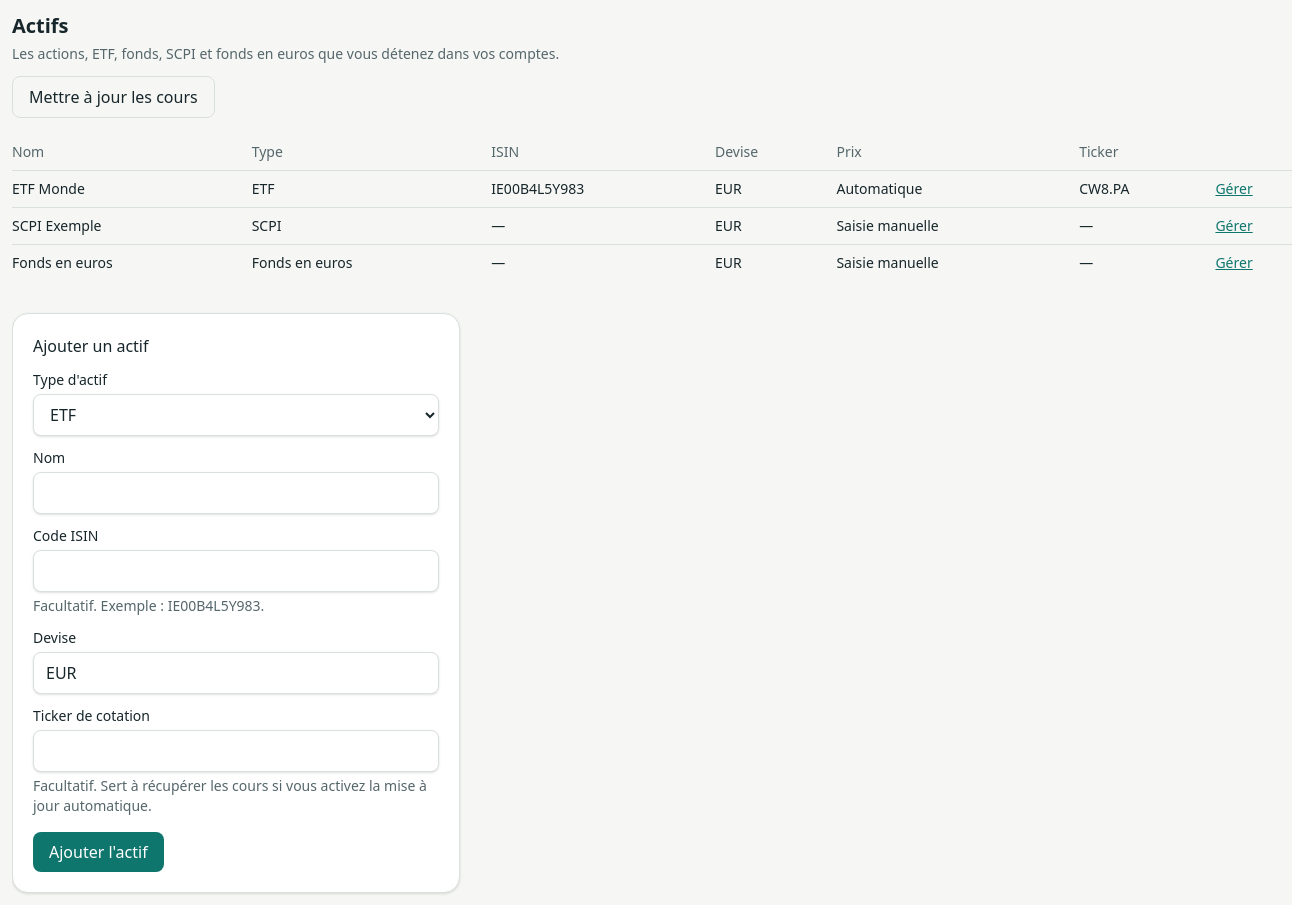
it: mise à jour des cours › renvoie vers les réglages quand la récupération est désactivée
Click the button "Mettre à jour les cours". click: (113,97)
box: [12,76,215,118]
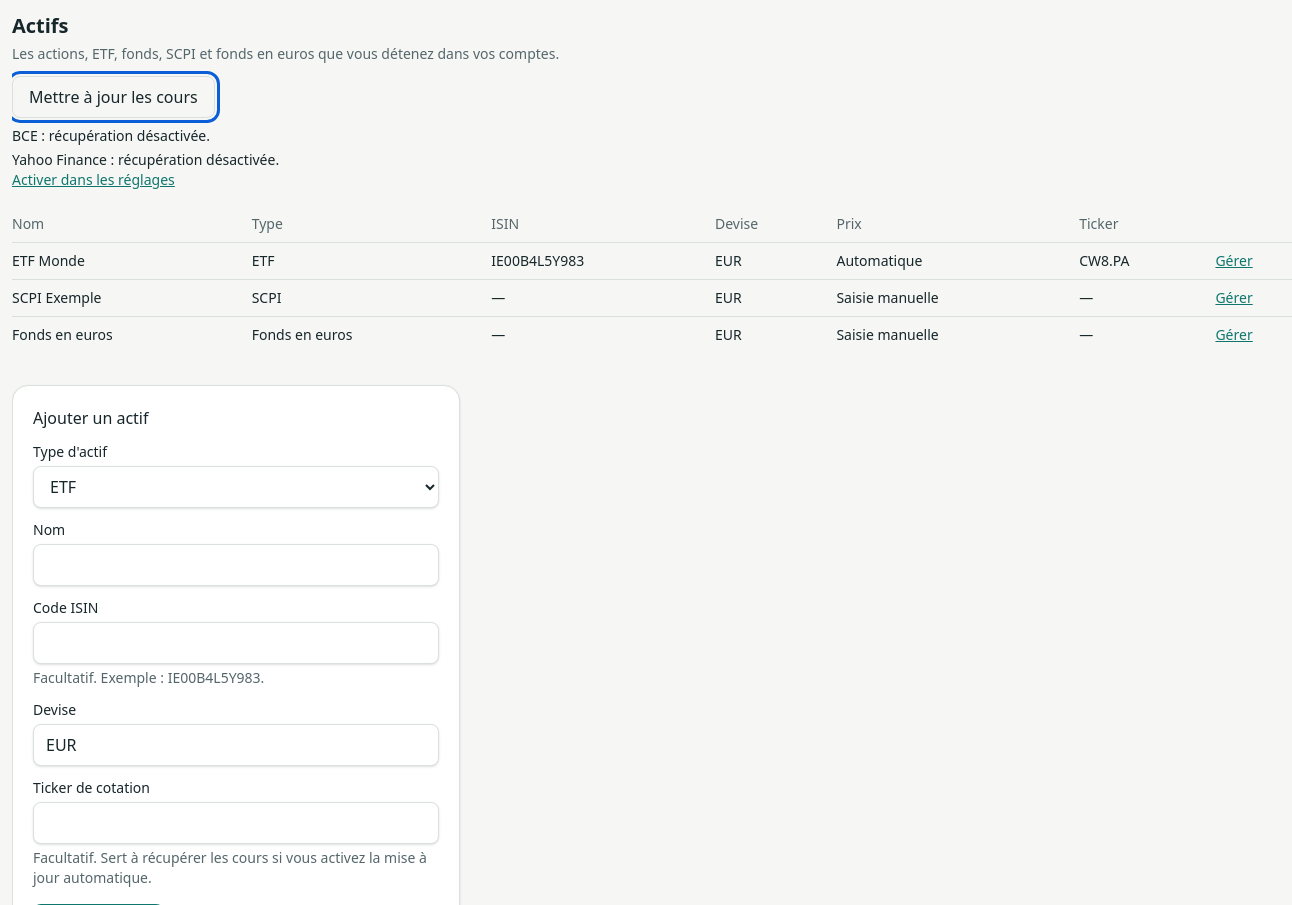
Now the message shows "désactivée", box [12,126,210,145]
